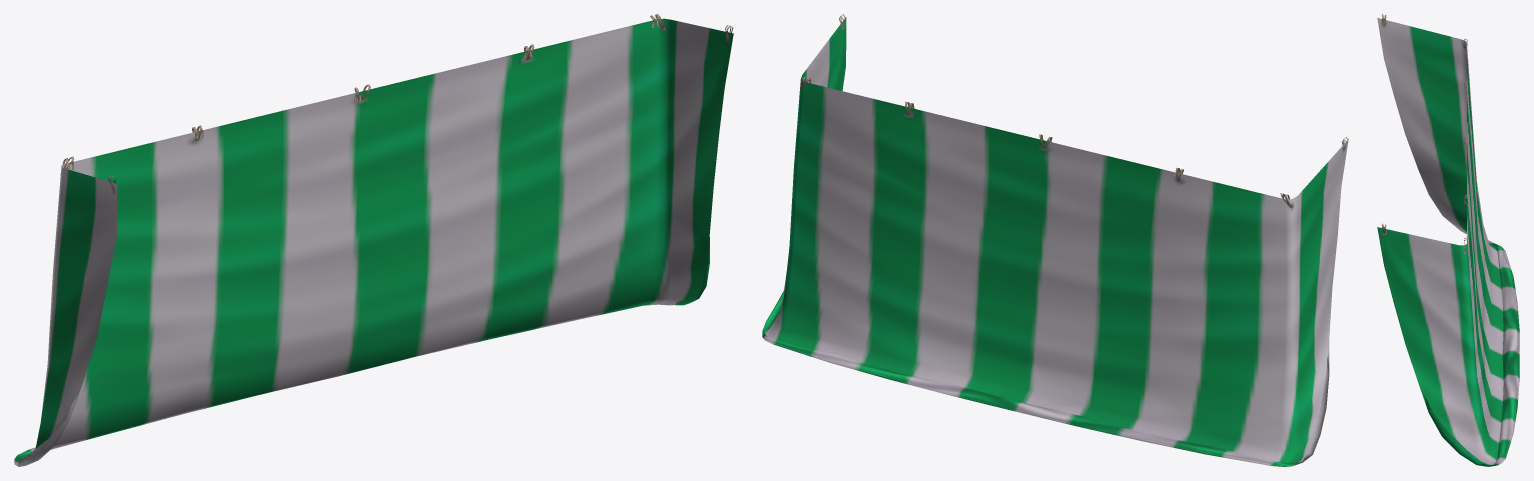
File: jsf_BackSide_s04_c05_t01.fbx
3 renders of one model, left to right at view 1: azimuth 30°, elevation 25°; view 2: azimuth 150°, elevation 25°; view 3: azimuth 270°, elevation 25°, orthographic. The views are drawn at different scales.
Visible parts, largest first — view 1: jsf_BackSide_s04_c05_t01; view 2: jsf_BackSide_s04_c05_t01; view 3: jsf_BackSide_s04_c05_t01.
Part boxes in pixels (x1,y1,x2,y2): jsf_BackSide_s04_c05_t01: [14, 14, 733, 466]; jsf_BackSide_s04_c05_t01: [762, 14, 1348, 466]; jsf_BackSide_s04_c05_t01: [1377, 14, 1519, 466].
Bounding box in the file's own units: 425 × 205 × 112.
